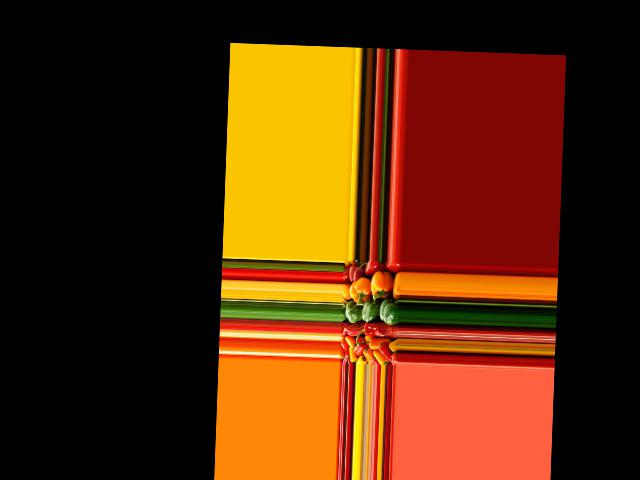bell_pepper: (377, 343, 393, 362)
